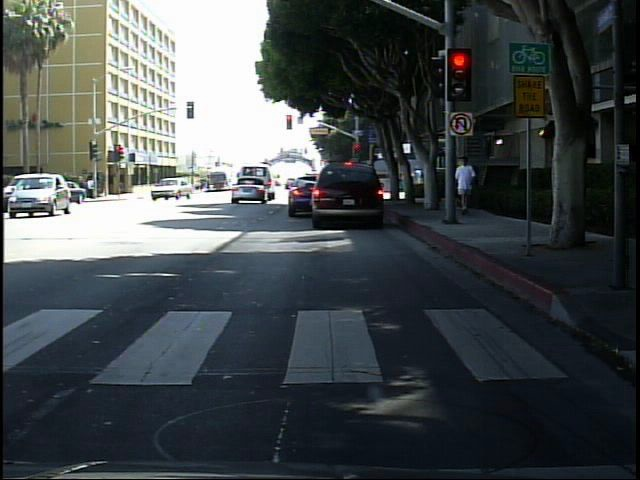person: (454, 151, 480, 217), (82, 171, 101, 202)
